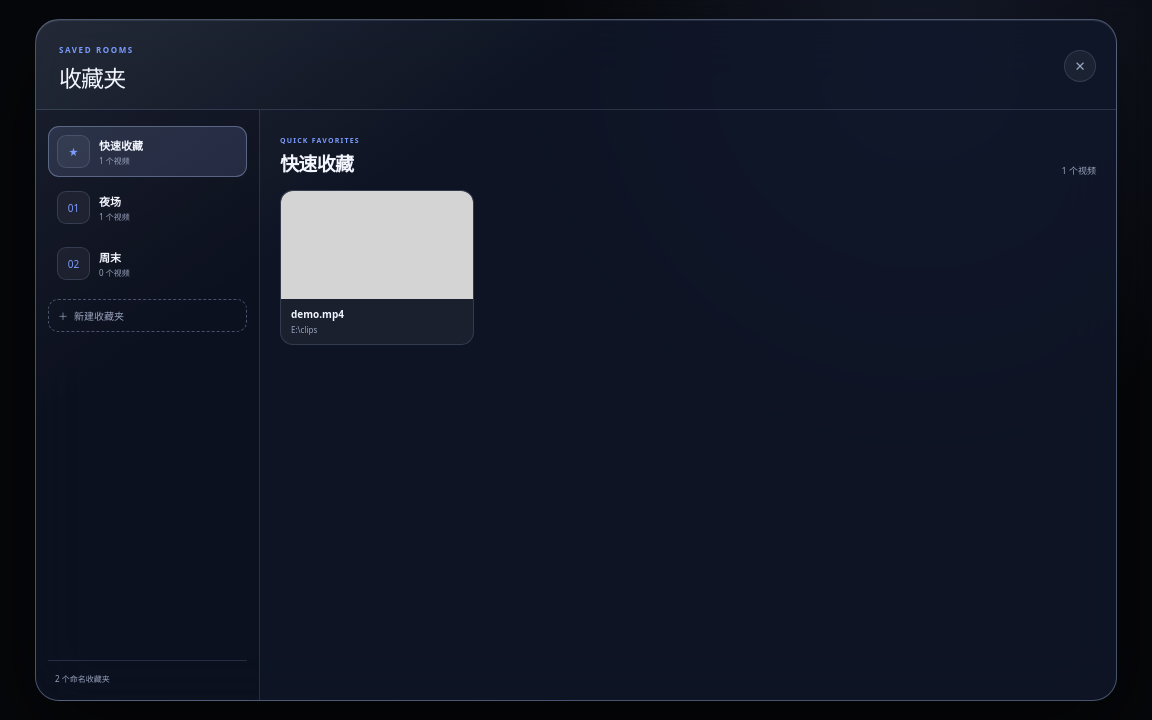
Test: 收藏夹页 › 可以在快速收藏和多个命名收藏夹之间切换
Check: the list with test id "favorites-list" shows "demo.mp4", box left=291, top=307, right=344, bottom=321
Click the button "01 夜场 1 个视频" at (148, 208), box left=48, top=182, right=247, bottom=233
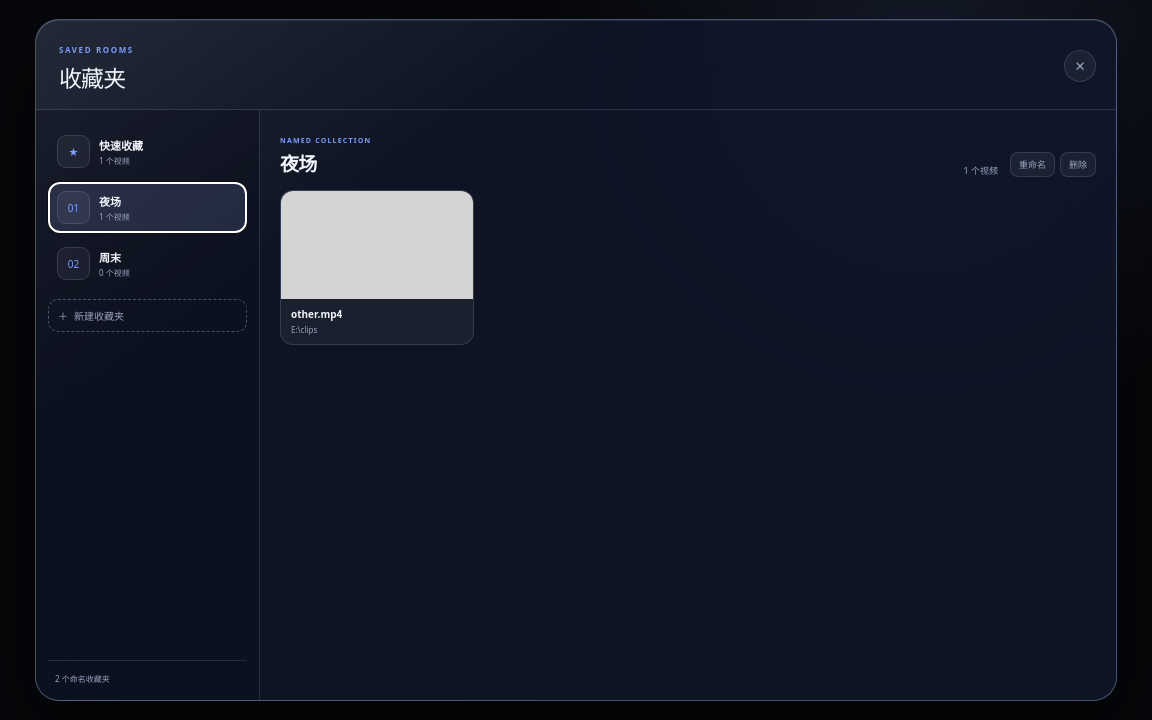
Check: the list with test id "named-collection-list" shows "other.mp4", box left=291, top=307, right=342, bottom=321
Check: the heading "夜场" is shown, box left=280, top=151, right=317, bottom=177
